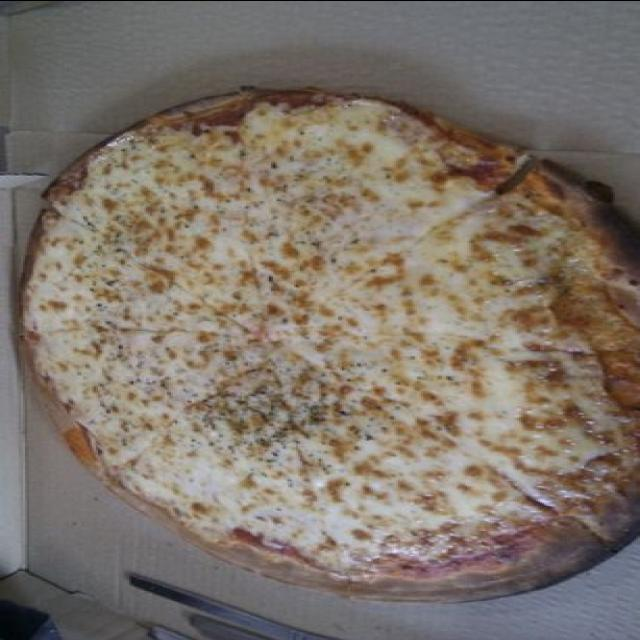pizza: (29, 92, 640, 581)
